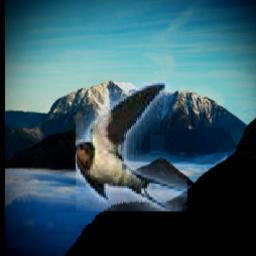Swallow: (75, 82, 186, 212)
